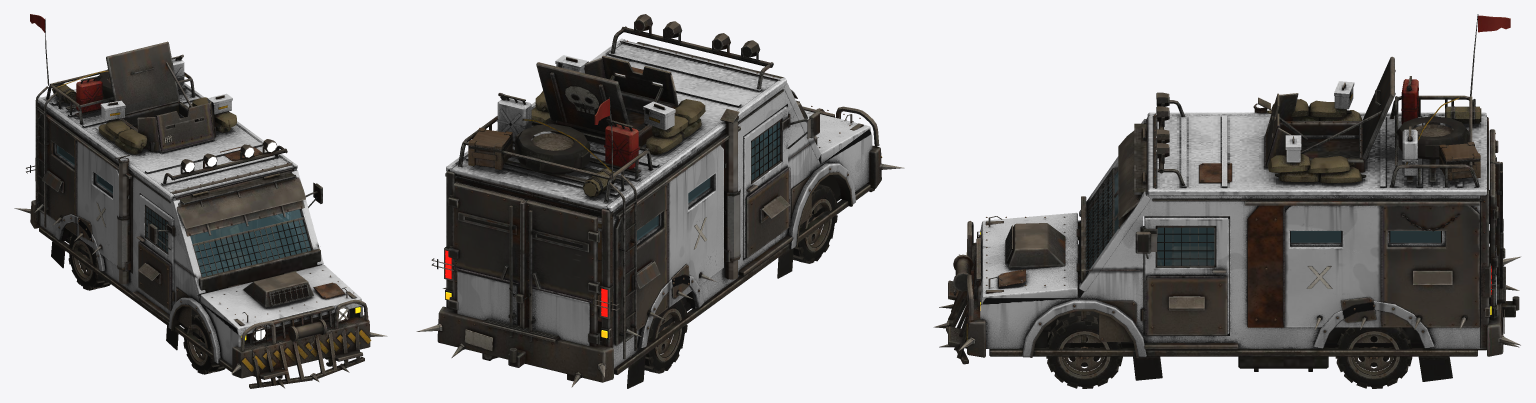
The model's file is e_van.glb.
3 views of the same model, side by side, from view 1: azimuth 30°, elevation 25°; view 2: azimuth 150°, elevation 25°; view 3: azimuth 270°, elevation 25° (orthographic). The views are drawn at different scales.
Parts seen in each view (by area): view 1: body, panel_armor_R, panel_bumper_F, panel_hood, panel_door_R, wheel_FR, wheel_RR, panel_door_L, panel_fender_R; view 2: body, panel_tailgate, panel_armor_R, panel_bumper_R, panel_door_R, panel_hood, wheel_FR, wheel_RR, panel_fender_R, panel_bumper_F; view 3: body, panel_armor_L, panel_door_L, panel_hood, panel_bumper_F, wheel_FL, wheel_RL, panel_tailgate, panel_fender_L, panel_bumper_R, panel_door_R.
Part boxes in pixels (bbox=[...]): body: bbox=[26, 14, 362, 378]; panel_armor_R: bbox=[34, 108, 132, 265]; panel_bumper_F: bbox=[231, 299, 387, 388]; panel_hood: bbox=[200, 264, 361, 335]; panel_door_R: bbox=[136, 194, 175, 310]; wheel_FR: bbox=[183, 313, 225, 374]; wheel_RR: bbox=[68, 234, 110, 290]; panel_door_L: bbox=[261, 182, 322, 249]; panel_fender_R: bbox=[168, 297, 220, 363]; body: bbox=[431, 14, 872, 388]; panel_tailgate: bbox=[448, 182, 599, 346]; panel_armor_R: bbox=[614, 126, 740, 345]; panel_bumper_R: bbox=[416, 306, 613, 387]; panel_door_R: bbox=[743, 106, 819, 258]; panel_hood: bbox=[796, 100, 871, 163]; wheel_FR: bbox=[793, 184, 837, 263]; wheel_RR: bbox=[644, 299, 687, 373]; panel_fender_R: bbox=[788, 162, 855, 249]; panel_bumper_F: bbox=[802, 106, 904, 191]; body: bbox=[977, 14, 1510, 381]; panel_armor_L: bbox=[1244, 201, 1479, 329]; panel_door_L: bbox=[1135, 216, 1229, 335]; panel_hood: bbox=[980, 212, 1080, 304]; panel_bumper_F: bbox=[933, 221, 985, 364]; wheel_FL: bbox=[1046, 311, 1122, 388]; wheel_RL: bbox=[1335, 327, 1412, 388]; panel_tailgate: bbox=[1489, 129, 1505, 319]; panel_fender_L: bbox=[1022, 299, 1146, 357]; panel_bumper_R: bbox=[1487, 246, 1520, 356]; panel_door_R: bbox=[1144, 216, 1218, 257].
Size of the model in its own units: 2.71 by 3.68 by 6.5.
12 materials, 8 textured.
